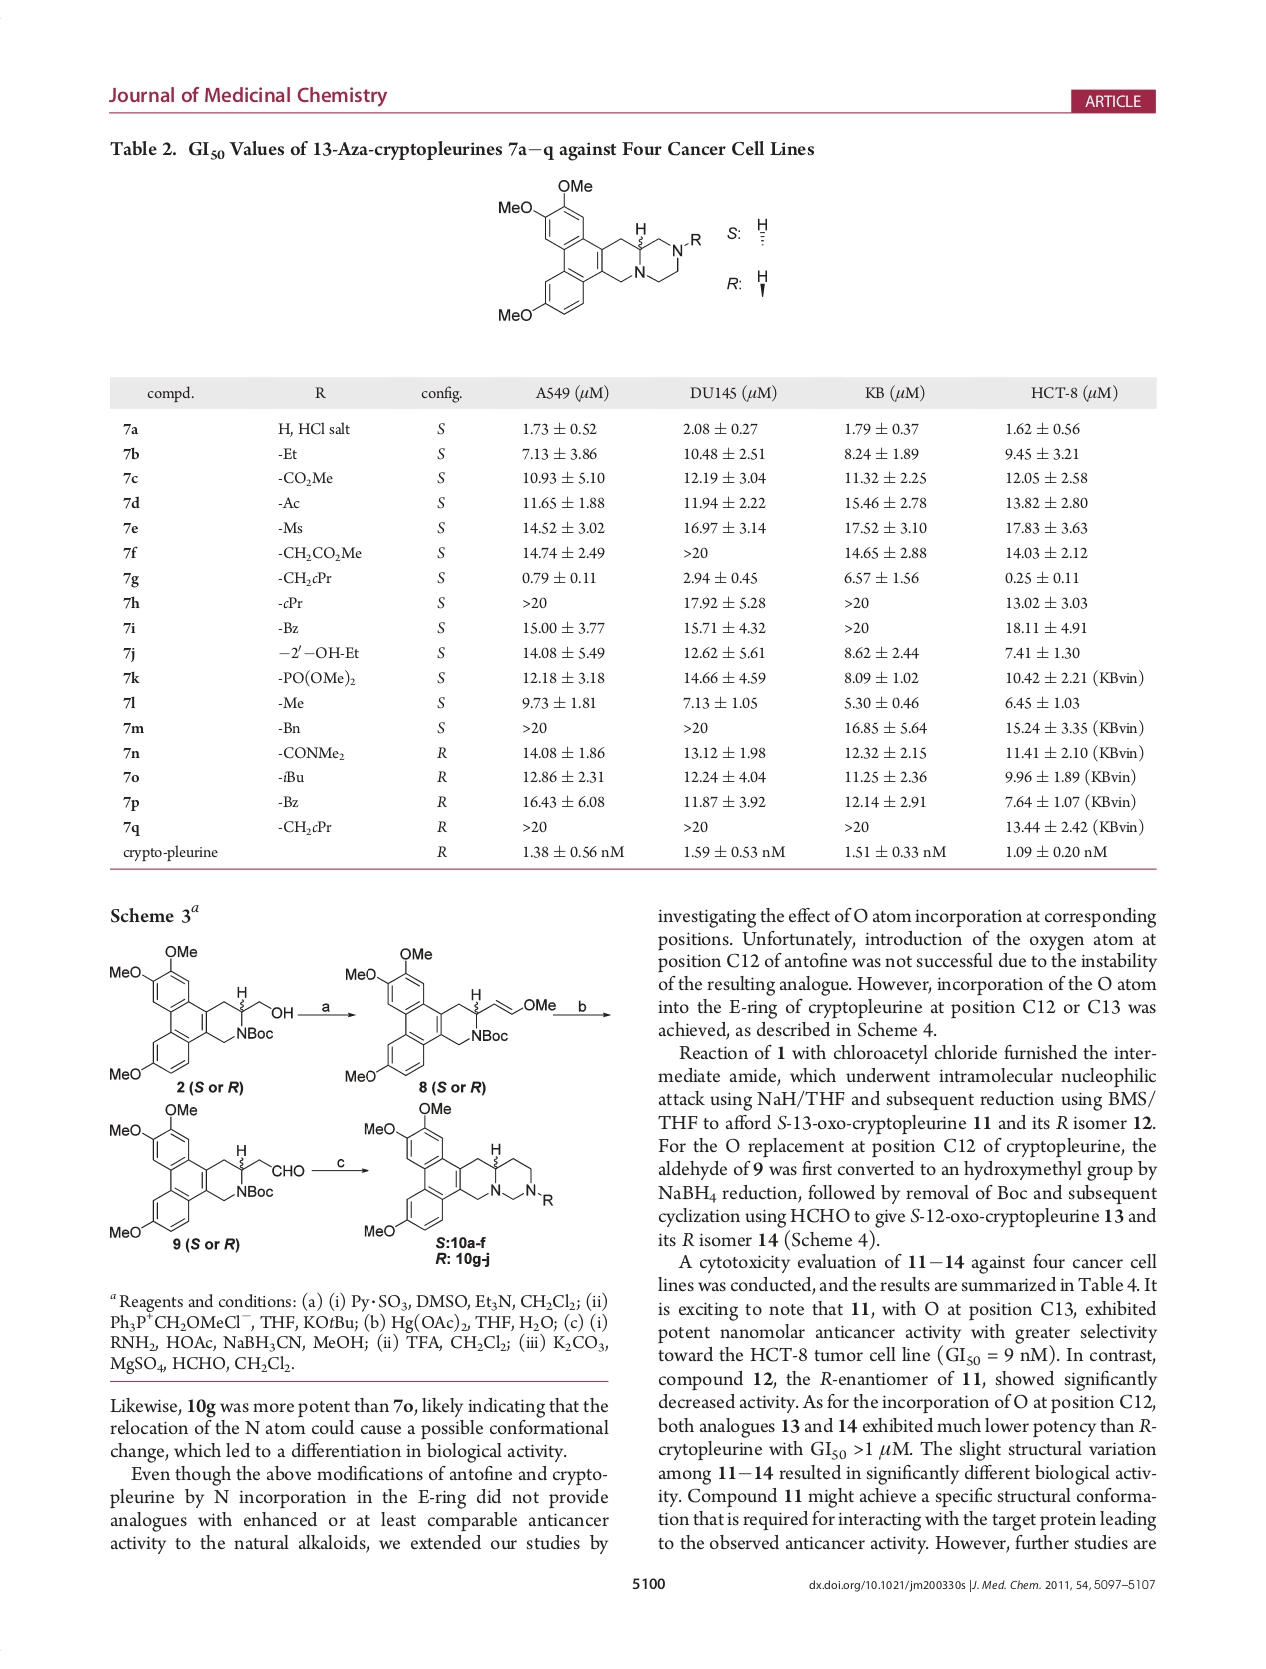exist_molecular: (493, 176, 703, 328), (342, 942, 556, 1084), (106, 1102, 309, 1242), (360, 1098, 557, 1239), (105, 940, 297, 1083)
